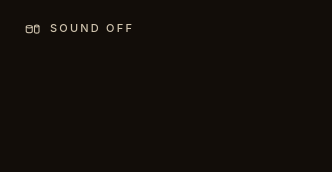
Test: SoundToggle › starts off and turns on when clicked
Click the button "Sound off": {"x": 79, "y": 29} [12,12,146,46]
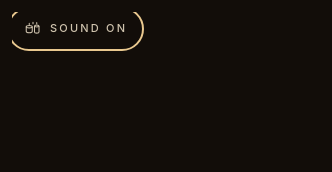
Result: the button "Sound on" is pressed at [12,12,139,46]
